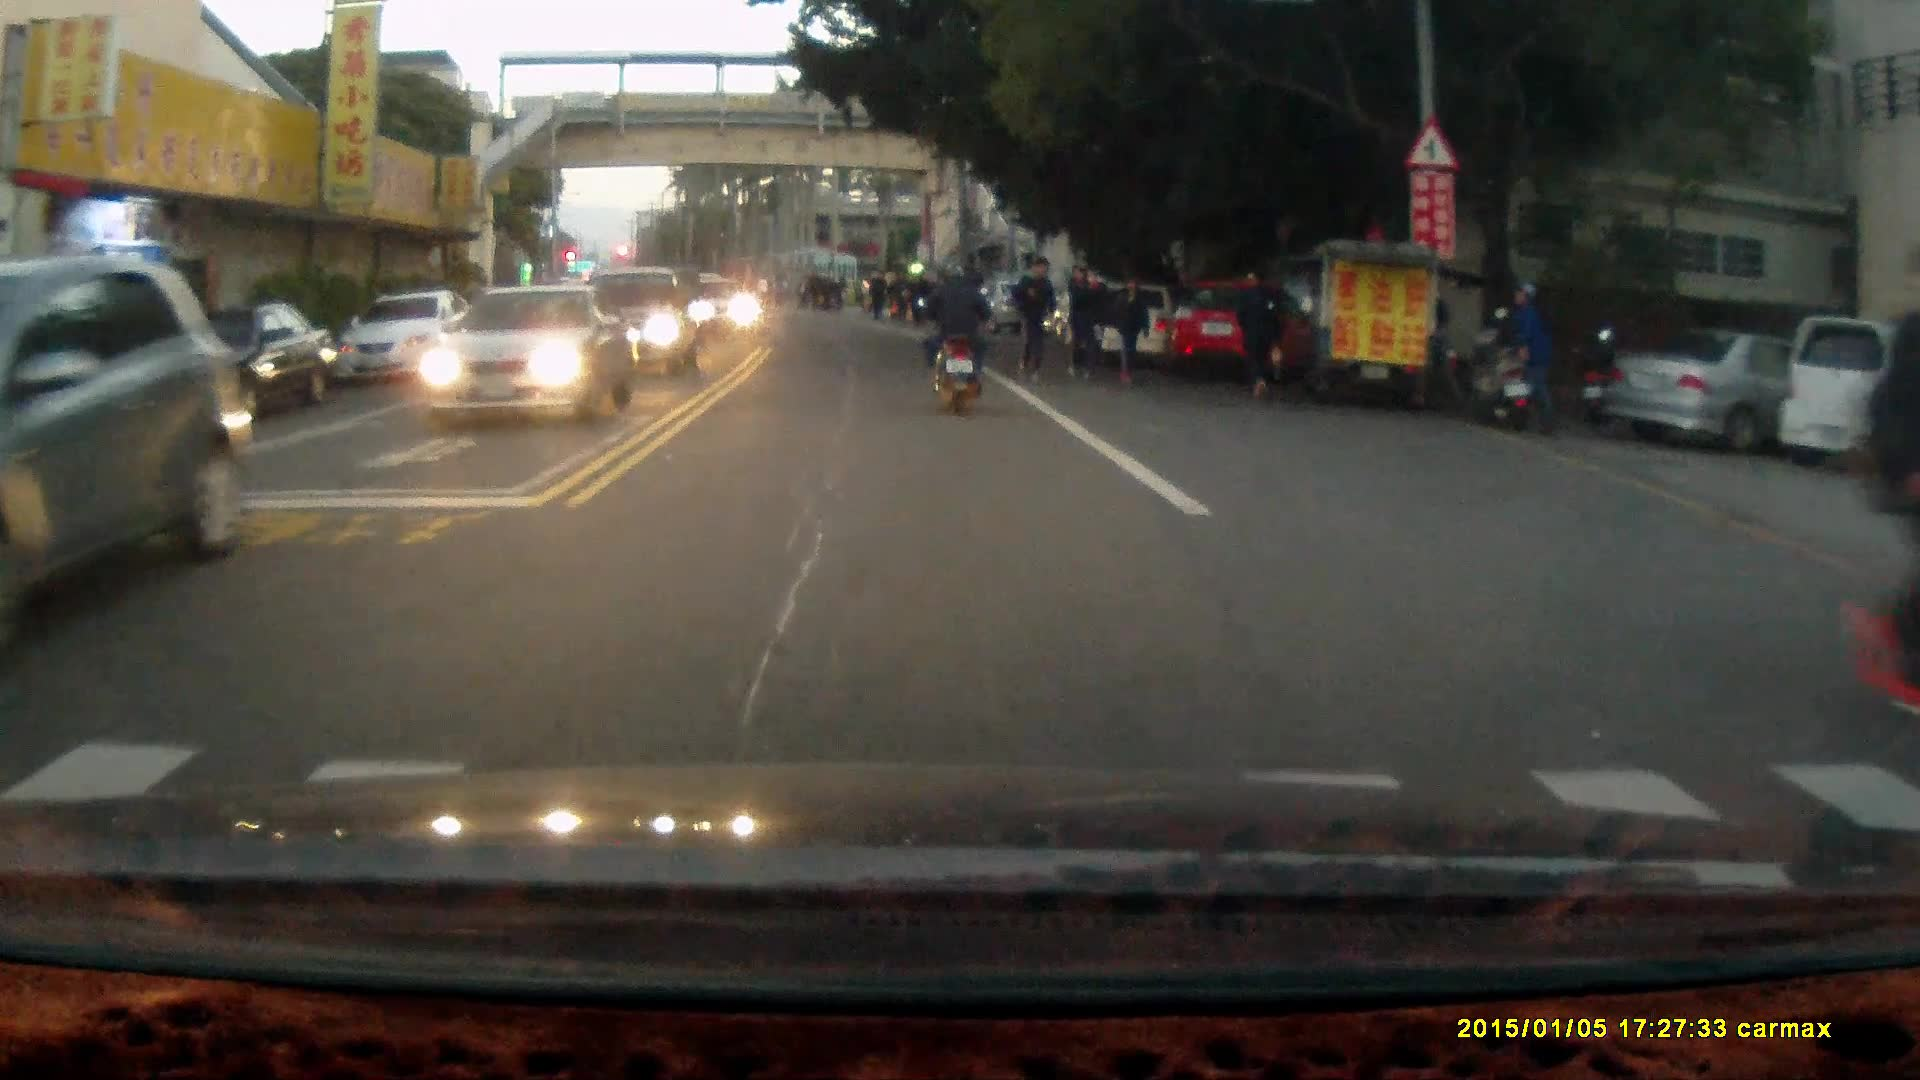pedestrian: (1843, 243, 1920, 723), (1228, 263, 1286, 409), (1502, 284, 1556, 436), (1008, 256, 1061, 385), (1109, 269, 1150, 388), (1061, 263, 1097, 388)
rider: (915, 258, 995, 419)
vehicle: (1, 253, 255, 663), (1599, 325, 1902, 461), (418, 290, 633, 430), (1165, 287, 1316, 391), (585, 271, 703, 382)
